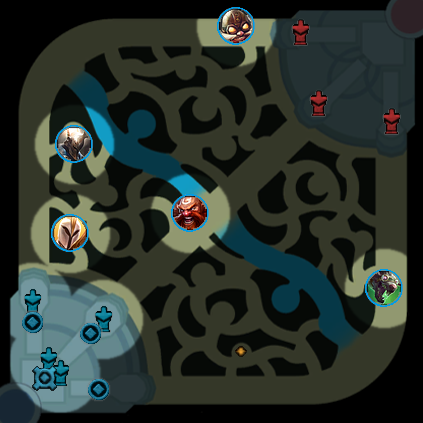Corki: (217, 7, 255, 45)
Gragas: (171, 194, 209, 232)
Kayle: (51, 214, 89, 252)
Pantheon: (55, 125, 93, 163)
Twitch: (365, 269, 403, 307)
